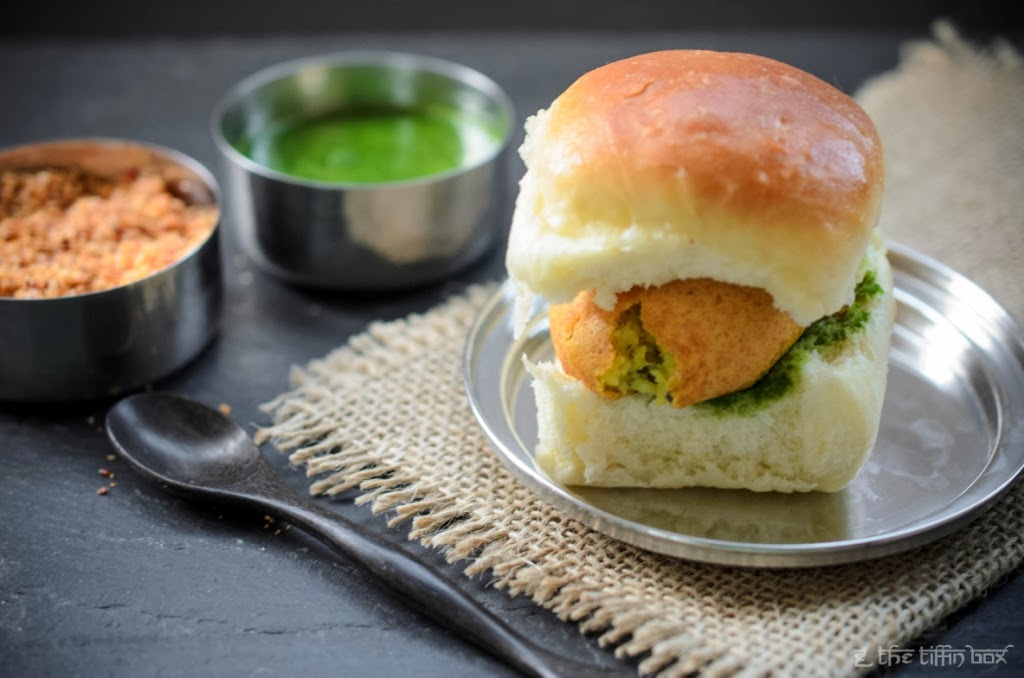vada pav: (563, 99, 844, 486)
